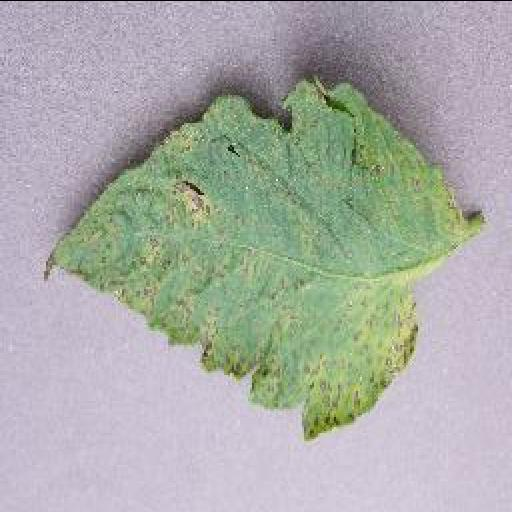disease_tomato: (44, 68, 466, 437)
